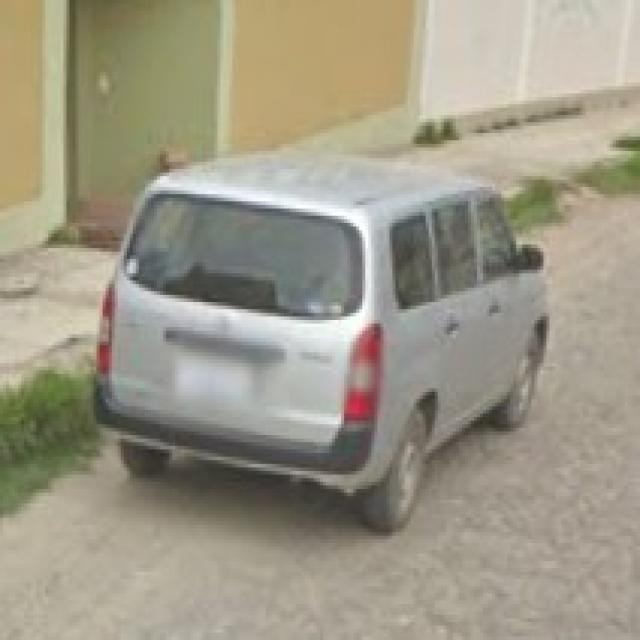car: (68, 135, 575, 549)
